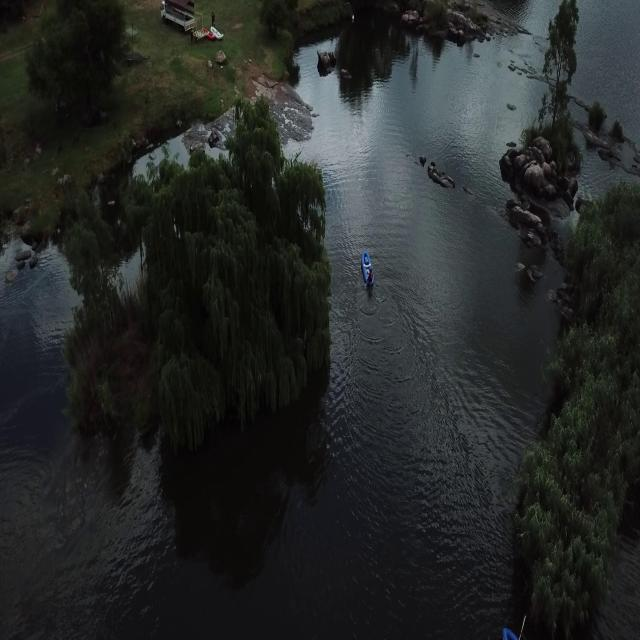kayak: (359, 248, 376, 292)
